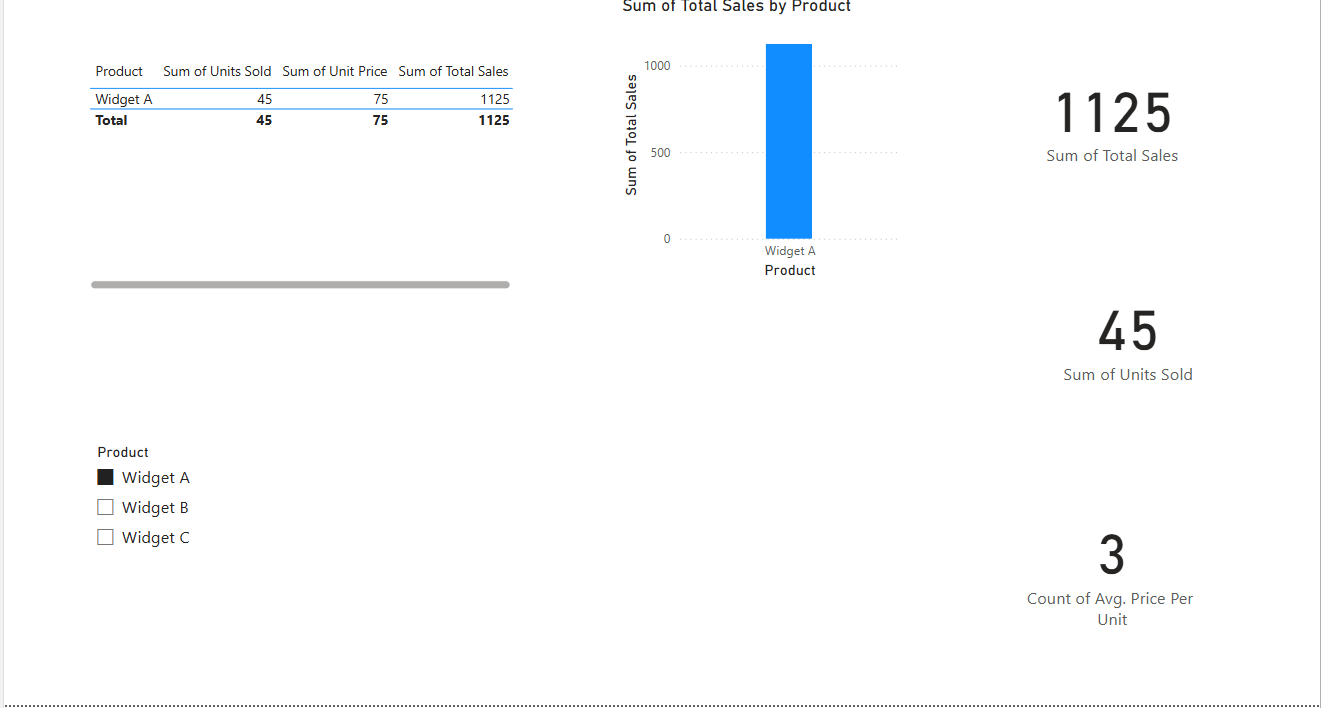

The dashboard page shown, as its layout file describes it:
{"tool":"powerbi","page":{"name":"Page 1","canvas":[1280,720],"ordinal":0},"visuals":[{"type":"clusteredColumnChart","fields":{"Category":["Sheet1.Product"],"Y":["Sum(Sheet1.Total Sales)"]},"box":[596.2,29.2,280.1,280.1],"z":0},{"type":"card","fields":{"Values":["Sum(Sheet1.Total Sales)"]},"box":[976.5,29.2,203.3,235.4],"z":1000},{"type":"card","fields":{"Values":["Sum(Sheet1.Units Sold)"]},"box":[992.1,242.2,203.3,234.4],"z":2000},{"type":"card","fields":{"Values":["CountNonNull(Sheet3.Avg. Price Per Unit)"]},"box":[976.5,460.1,203.3,234.4],"z":3000},{"type":"tableEx","fields":{"Values":["Sheet1.Product","Sum(Sheet1.Units Sold)","Sum(Sheet1.Unit Price)","Sum(Sheet1.Total Sales)"]},"box":[77.8,87.5,422.1,233.4],"z":4000},{"type":"slicer","fields":{"Values":["Sheet1.Product"]},"box":[78,460,422,234],"z":4001}]}

Visuals, with their boxes on the page's 1280x720 design canvas (x1, y1, x2, y2). These are canvas units, not pixel positions in the 1321x708 screenshot, which may show the page scaled, cropped or inside an application window:
clusteredColumnChart - Sheet1.Product x Sum(Sheet1.Total Sales): bbox=(596, 29, 876, 309)
card - Sum(Sheet1.Total Sales): bbox=(976, 29, 1180, 265)
card - Sum(Sheet1.Units Sold): bbox=(992, 242, 1195, 477)
card - CountNonNull(Sheet3.Avg. Price Per Unit): bbox=(976, 460, 1180, 694)
tableEx - Sheet1.Product x Sum(Sheet1.Units Sold): bbox=(78, 88, 500, 321)
slicer - Sheet1.Product: bbox=(78, 460, 500, 694)
